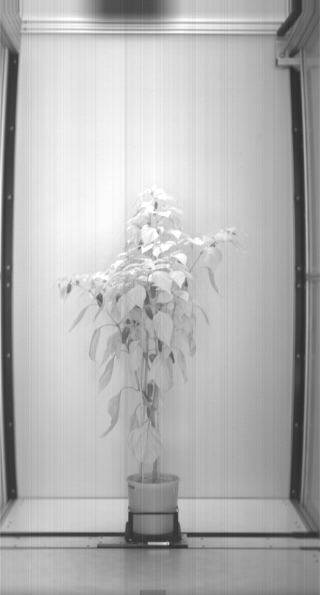bell-pepper fooled_you: (144, 381, 159, 428), (154, 335, 178, 364), (145, 289, 156, 320), (120, 317, 131, 345), (95, 290, 102, 306), (65, 281, 72, 293)
